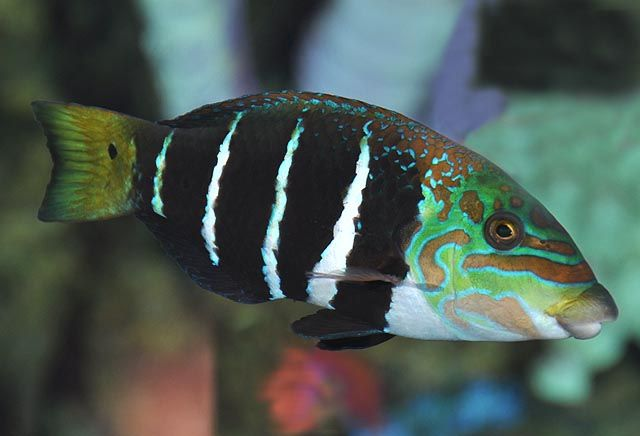fish: (31, 89, 619, 352)
